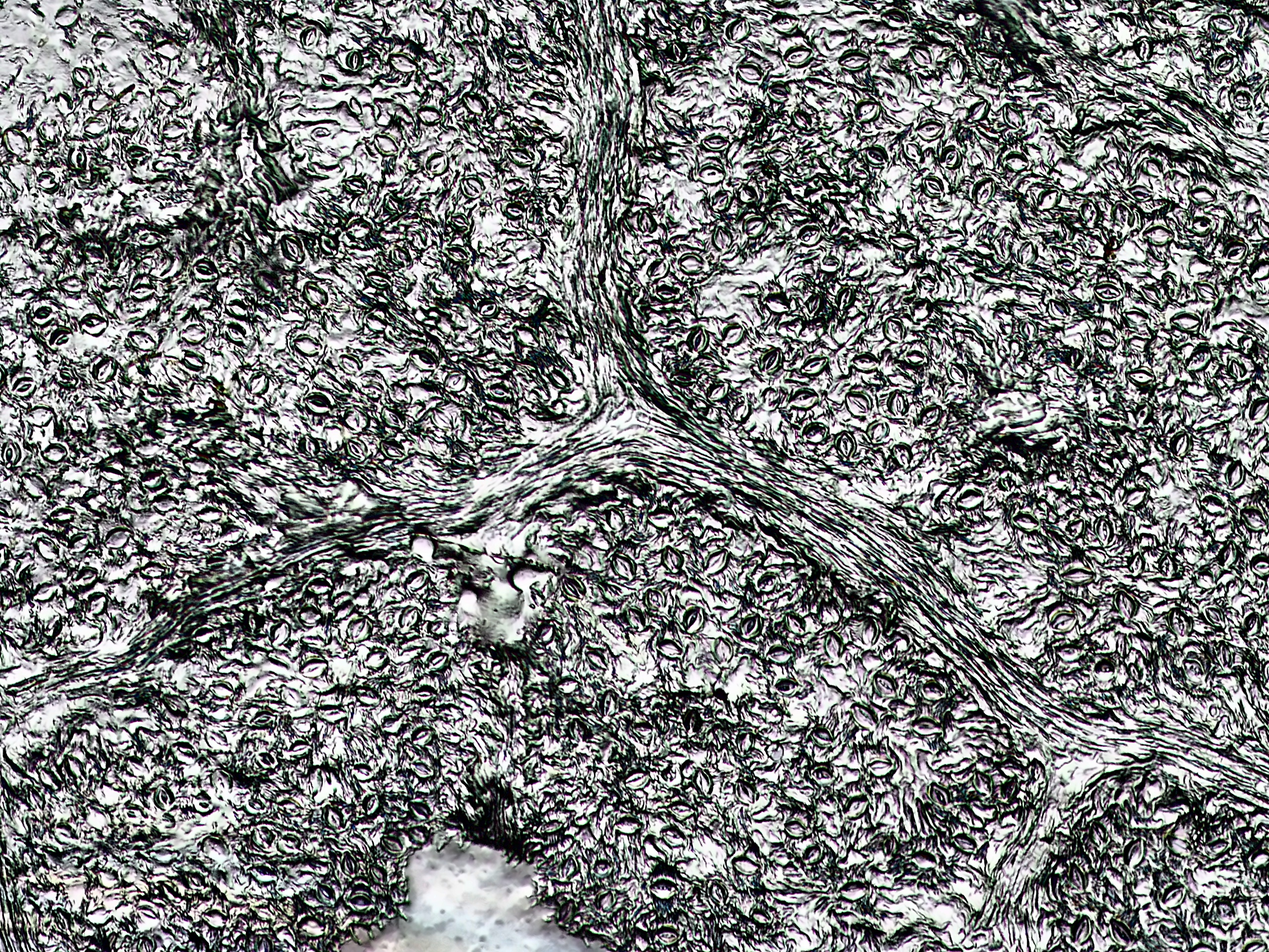stomata: (0, 125, 33, 160), (1165, 607, 1198, 639), (23, 579, 64, 604), (1108, 199, 1142, 229), (285, 332, 324, 357), (127, 272, 159, 302), (925, 779, 955, 811), (1075, 198, 1104, 231), (1086, 817, 1119, 846), (990, 304, 1018, 338), (952, 860, 988, 886), (18, 471, 50, 500), (1107, 918, 1140, 946), (845, 702, 879, 729), (1165, 831, 1196, 860), (1140, 771, 1168, 803), (84, 803, 112, 835), (368, 131, 401, 158), (24, 300, 61, 324), (844, 389, 874, 418), (608, 551, 638, 580), (124, 330, 160, 354), (1221, 459, 1248, 491), (1156, 924, 1192, 948), (836, 879, 872, 903), (450, 692, 487, 715), (1121, 433, 1150, 462), (300, 280, 330, 308), (18, 405, 53, 429), (459, 90, 490, 117), (29, 169, 61, 195), (1112, 589, 1138, 621), (1066, 860, 1092, 892), (188, 258, 221, 283), (888, 363, 922, 387), (1167, 310, 1204, 332), (277, 235, 305, 264), (907, 298, 936, 326), (999, 101, 1027, 130), (660, 544, 687, 574), (1121, 836, 1147, 867), (47, 905, 73, 936), (785, 389, 820, 412), (1198, 492, 1230, 517), (511, 324, 544, 348), (387, 53, 423, 75), (834, 430, 858, 463), (1068, 915, 1095, 944), (300, 573, 334, 596), (677, 252, 707, 278), (1047, 608, 1077, 634), (201, 836, 231, 862), (623, 603, 648, 634), (556, 576, 587, 601), (920, 201, 963, 219), (603, 504, 627, 536), (876, 9, 914, 29), (923, 23, 961, 43), (156, 119, 189, 142), (120, 144, 153, 167), (863, 756, 899, 777), (136, 725, 163, 753), (293, 432, 322, 458), (34, 117, 60, 146), (971, 177, 997, 206), (642, 836, 671, 862), (441, 369, 471, 394), (421, 152, 451, 177), (1036, 186, 1066, 211), (1239, 506, 1269, 531), (440, 243, 474, 265), (176, 323, 210, 345), (148, 40, 182, 62), (182, 455, 216, 477), (657, 826, 691, 848), (215, 524, 249, 546), (159, 692, 193, 714), (294, 916, 328, 938), (218, 50, 242, 81), (956, 809, 987, 833), (858, 616, 882, 647), (807, 763, 838, 787), (648, 873, 679, 897), (188, 506, 225, 526), (884, 230, 921, 250), (445, 212, 477, 235), (79, 312, 111, 335), (946, 52, 969, 84), (252, 268, 279, 295), (1168, 431, 1195, 458), (706, 878, 733, 905), (89, 355, 115, 383), (98, 457, 124, 485), (64, 530, 92, 556), (35, 536, 63, 562), (1031, 101, 1059, 127), (158, 879, 186, 905), (21, 814, 47, 842), (407, 349, 440, 371), (277, 684, 306, 709), (886, 389, 910, 419), (945, 361, 975, 385), (214, 437, 248, 458), (0, 438, 23, 469), (177, 350, 209, 372), (921, 681, 953, 703), (207, 681, 239, 703), (1057, 566, 1094, 585), (221, 236, 247, 263), (724, 17, 750, 44), (1138, 282, 1165, 308), (1180, 658, 1207, 684), (346, 617, 372, 644), (62, 755, 88, 782), (757, 347, 782, 375), (1103, 862, 1131, 887), (783, 613, 811, 638), (652, 638, 687, 658), (680, 707, 705, 735), (38, 767, 66, 792), (597, 689, 621, 718), (152, 783, 176, 812), (55, 275, 88, 296), (302, 392, 332, 415), (915, 119, 945, 142), (1208, 901, 1238, 924), (131, 229, 167, 248), (159, 251, 181, 282), (362, 271, 396, 291), (46, 325, 72, 351), (349, 835, 375, 861), (241, 426, 268, 451), (1205, 835, 1232, 860), (702, 549, 729, 574), (426, 276, 458, 297), (1045, 297, 1073, 321), (681, 606, 705, 634), (163, 541, 195, 562), (378, 834, 406, 858), (371, 97, 394, 126), (1001, 148, 1030, 171), (1041, 920, 1064, 949), (352, 684, 381, 707), (132, 442, 167, 461), (838, 52, 873, 71), (360, 311, 390, 333), (504, 146, 537, 166), (973, 48, 1006, 68), (645, 508, 675, 530), (1092, 516, 1113, 547), (938, 146, 964, 171), (882, 317, 908, 342), (892, 443, 918, 468), (862, 447, 888, 472), (845, 795, 870, 821), (739, 613, 764, 639), (642, 587, 667, 613), (67, 145, 91, 172), (41, 441, 68, 465), (801, 421, 828, 445), (1222, 240, 1249, 264), (1226, 354, 1250, 381), (734, 777, 758, 804), (583, 649, 610, 673), (134, 904, 161, 928), (458, 176, 486, 199), (296, 26, 324, 49), (64, 412, 92, 435), (1089, 658, 1117, 681), (124, 757, 152, 780), (652, 281, 684, 301), (274, 86, 303, 108), (222, 323, 252, 344), (189, 624, 219, 645), (848, 353, 881, 372), (765, 645, 798, 664), (164, 461, 189, 486), (250, 824, 275, 849), (209, 769, 234, 794), (124, 488, 150, 512), (879, 88, 905, 112), (1127, 286, 1153, 310), (404, 566, 428, 592), (224, 297, 251, 320), (915, 405, 942, 428), (1184, 348, 1211, 371), (809, 723, 836, 746), (82, 591, 109, 614), (180, 869, 207, 892), (695, 164, 726, 184), (769, 13, 800, 33), (782, 45, 813, 65), (1092, 282, 1123, 302), (336, 352, 364, 374), (11, 376, 39, 398), (102, 525, 130, 547), (860, 144, 888, 166), (908, 44, 936, 66), (991, 228, 1013, 256), (1247, 396, 1269, 424), (970, 799, 998, 821), (70, 567, 99, 588), (735, 63, 764, 84), (469, 6, 488, 38), (1123, 184, 1155, 203), (911, 717, 943, 736), (297, 658, 329, 677), (199, 908, 231, 927), (544, 368, 574, 388), (834, 285, 858, 310), (865, 420, 890, 444), (964, 512, 994, 532), (1186, 185, 1216, 205), (1015, 241, 1040, 265), (1159, 883, 1184, 907), (700, 525, 730, 545), (737, 698, 761, 723), (651, 925, 681, 945), (321, 805, 344, 831), (203, 727, 229, 750), (172, 740, 198, 763), (719, 324, 746, 346), (1124, 368, 1157, 386), (1157, 553, 1179, 580), (404, 825, 431, 847), (954, 488, 985, 507), (1043, 872, 1062, 903), (378, 439, 406, 460), (322, 425, 343, 453), (344, 218, 372, 239), (52, 6, 80, 27), (1146, 8, 1174, 29), (1099, 160, 1127, 181), (1188, 214, 1216, 235), (1248, 552, 1269, 580), (1025, 756, 1046, 784), (117, 806, 145, 827), (340, 173, 369, 193), (388, 382, 412, 406), (841, 651, 865, 675), (730, 857, 762, 875), (366, 862, 390, 886), (1246, 849, 1269, 874), (973, 772, 996, 797), (267, 620, 290, 645), (24, 785, 47, 810), (548, 15, 570, 41), (252, 229, 274, 255), (712, 225, 734, 251), (901, 140, 927, 162), (855, 101, 881, 123), (1170, 463, 1192, 489), (1121, 488, 1147, 510), (1090, 452, 1116, 474), (712, 636, 734, 662), (764, 148, 794, 167), (763, 294, 793, 313), (622, 772, 652, 791), (249, 864, 279, 883), (316, 235, 343, 256), (502, 52, 529, 73), (80, 115, 107, 136), (52, 367, 79, 388), (139, 467, 166, 488), (688, 325, 709, 352), (1161, 273, 1182, 300), (557, 898, 578, 925), (1140, 227, 1173, 244), (147, 847, 180, 864), (1192, 281, 1220, 301), (1216, 541, 1236, 569), (951, 832, 979, 852), (567, 716, 587, 744), (273, 800, 304, 818), (84, 906, 115, 924), (388, 246, 412, 269), (404, 227, 428, 250), (52, 91, 75, 115), (82, 244, 106, 267), (742, 216, 766, 239), (710, 189, 734, 212), (967, 99, 991, 122), (1213, 53, 1237, 76), (1017, 319, 1041, 342), (819, 601, 843, 624), (112, 113, 141, 132), (799, 356, 828, 375), (1008, 70, 1037, 89), (1121, 307, 1150, 326), (345, 892, 374, 911), (344, 46, 366, 71), (153, 494, 178, 516), (379, 407, 405, 428), (33, 233, 59, 254), (635, 208, 656, 234), (999, 468, 1020, 494), (437, 752, 463, 773), (45, 507, 79, 523), (664, 802, 696, 819), (499, 199, 526, 219), (155, 87, 182, 107), (56, 480, 83, 500), (812, 793, 839, 813), (340, 851, 360, 878), (794, 226, 822, 245), (1214, 640, 1233, 668), (911, 851, 939, 870), (824, 632, 843, 660), (434, 703, 462, 722), (229, 869, 252, 892), (278, 831, 301, 854), (137, 563, 170, 579), (1204, 605, 1226, 629), (291, 716, 315, 738), (644, 257, 669, 278), (1248, 259, 1269, 284), (962, 212, 987, 233), (1121, 887, 1142, 912), (1010, 803, 1030, 829), (818, 253, 845, 272), (1208, 14, 1235, 33), (629, 721, 656, 740), (407, 801, 434, 820), (244, 611, 263, 638), (1054, 644, 1084, 661), (315, 882, 337, 905), (414, 106, 442, 124), (68, 67, 92, 88), (880, 455, 901, 479), (296, 607, 324, 625), (429, 407, 454, 427), (545, 192, 565, 217), (139, 383, 164, 403), (762, 387, 782, 412), (664, 42, 689, 62), (1056, 365, 1081, 385), (1079, 490, 1104, 510), (874, 675, 899, 695), (87, 95, 118, 111), (1007, 300, 1038, 316), (772, 678, 803, 694), (914, 273, 940, 292), (1092, 329, 1118, 348), (754, 572, 780, 591), (499, 177, 528, 194), (783, 820, 810, 838), (410, 684, 437, 702), (249, 711, 276, 729), (346, 408, 368, 430), (1165, 47, 1187, 69), (763, 740, 785, 762), (730, 400, 751, 423), (593, 889, 616, 910), (539, 45, 563, 65), (150, 156, 180, 172), (707, 381, 731, 401), (767, 83, 791, 103), (1011, 513, 1039, 530), (554, 678, 582, 695), (422, 652, 450, 669), (287, 740, 315, 757), (827, 220, 852, 239), (89, 32, 115, 50), (1242, 610, 1260, 636), (747, 907, 773, 925), (259, 784, 285, 802), (67, 237, 83, 266), (613, 817, 642, 833), (382, 192, 404, 213), (791, 110, 813, 131), (399, 606, 420, 628), (1140, 157, 1163, 177), (736, 731, 756, 754), (536, 623, 556, 646), (879, 347, 896, 374), (716, 746, 733, 773), (242, 796, 269, 813), (1192, 72, 1216, 91), (1135, 38, 1154, 62), (1081, 12, 1105, 31), (1216, 714, 1235, 738), (801, 845, 825, 864), (191, 794, 215, 813), (485, 382, 510, 400), (303, 236, 321, 261), (317, 706, 347, 721), (461, 739, 486, 757), (900, 350, 928, 366), (956, 9, 982, 26), (363, 651, 389, 668), (247, 374, 269, 394), (346, 96, 366, 118), (850, 162, 872, 182), (1068, 346, 1088, 368), (1195, 570, 1217, 590), (541, 69, 564, 88), (1229, 90, 1252, 109), (1113, 12, 1136, 31), (1127, 661, 1146, 684), (1094, 412, 1123, 427), (701, 134, 728, 150), (886, 700, 913, 716), (693, 771, 711, 795), (457, 628, 473, 655), (411, 726, 435, 744), (51, 827, 78, 843), (769, 848, 794, 865), (536, 174, 564, 189), (1065, 520, 1085, 541), (879, 834, 899, 855), (519, 798, 540, 818), (495, 678, 515, 699), (922, 177, 944, 196), (98, 870, 120, 889), (504, 764, 523, 786), (487, 19, 505, 42), (499, 29, 522, 47), (740, 183, 758, 206), (358, 382, 382, 399), (96, 279, 120, 296), (654, 712, 671, 736), (254, 751, 278, 768), (249, 904, 276, 919), (438, 730, 465, 745), (527, 663, 554, 678), (1128, 552, 1144, 577), (310, 676, 335, 692), (977, 224, 998, 243), (361, 794, 380, 815), (967, 147, 985, 169), (690, 13, 708, 35), (559, 857, 577, 879), (461, 800, 479, 822), (61, 112, 78, 135), (1124, 513, 1139, 539), (1112, 630, 1127, 656), (307, 125, 331, 141), (804, 293, 823, 313), (875, 709, 894, 729), (345, 438, 363, 459), (649, 24, 676, 38), (518, 686, 545, 700), (477, 300, 499, 317), (317, 71, 340, 87), (670, 371, 693, 387), (971, 242, 994, 258), (1134, 404, 1150, 427), (350, 763, 373, 779), (537, 820, 563, 834), (379, 746, 398, 765), (459, 429, 479, 447), (1200, 87, 1218, 107), (703, 404, 720, 425), (660, 762, 677, 783), (592, 860, 614, 876), (94, 749, 110, 771), (136, 255, 159, 270), (1216, 87, 1231, 110), (486, 407, 505, 425), (749, 109, 768, 127), (1178, 406, 1195, 426), (409, 762, 435, 775), (723, 81, 742, 98), (766, 706, 785, 723), (680, 759, 696, 779), (381, 716, 401, 732), (488, 730, 509, 745), (1126, 337, 1148, 351), (472, 686, 494, 700), (381, 733, 400, 749), (1244, 70, 1264, 85), (1056, 258, 1076, 273), (1205, 700, 1220, 720), (451, 452, 472, 466), (522, 630, 536, 650), (489, 661, 509, 675), (580, 833, 597, 849), (574, 751, 588, 770), (1227, 576, 1240, 596), (428, 620, 445, 635), (466, 662, 482, 677), (473, 674, 493, 686), (881, 643, 895, 660), (358, 747, 373, 761), (1176, 523, 1187, 542), (573, 814, 590, 826), (635, 795, 647, 812), (596, 769, 607, 784), (579, 781, 590, 793), (586, 770, 594, 784)
